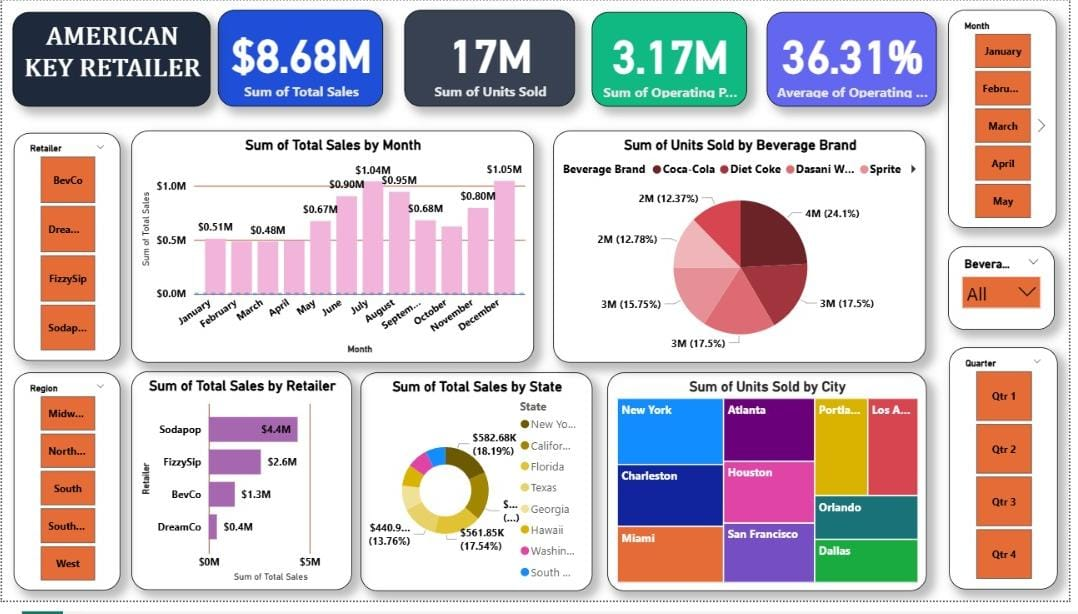

Layout of this report page (visuals, bound fields, positions):
{"tool":"powerbi","page":{"name":"Page 1","canvas":[1280,720],"ordinal":0},"visuals":[{"type":"slicer","fields":{"Values":["Sheet1.Invoice Date.Variation.Date Hierarchy.Month"]},"box":[1135,11.7,130,261.7],"z":0},{"type":"slicer","fields":{"Values":["Sheet1.Invoice Date.Variation.Date Hierarchy.Quarter"]},"box":[1136.7,416.7,130,290],"z":1000},{"type":"slicer","fields":{"Values":["Sheet1.Region"]},"box":[13.3,446.7,128.3,261.7],"z":2000},{"type":"slicer","fields":{"Values":["Sheet1.Retailer"]},"box":[13.3,158.3,128.3,273.3],"z":3000},{"type":"slicer","fields":{"Values":["Sheet1.Beverage Brand"]},"box":[1135,295,128.3,100],"z":4000},{"type":"card","fields":{"Values":["Sum(Sheet1.Total Sales)"]},"box":[258.8,11.2,198.8,116.2],"z":5000},{"type":"card","fields":{"Values":["Sum(Sheet1.Units Sold)"]},"box":[482.5,11.2,205,116.2],"z":6000},{"type":"card","fields":{"Values":["Sum(Sheet1.Operating Profit)"]},"box":[707.5,13.8,186.2,113.8],"z":7000},{"type":"card","fields":{"Values":["Avg(Sheet1.Operating Margin)"]},"box":[917.5,13.8,203.8,113.8],"z":8000},{"type":"columnChart","fields":{"Category":["Sheet1.Invoice Date.Variation.Date Hierarchy.Month"],"Y":["Sum(Sheet1.Total Sales)"]},"box":[155.1,156.4,483,278.6],"z":9000},{"type":"pieChart","fields":{"Y":["Sum(Sheet1.Units Sold)"],"Category":["Sheet1.Beverage Brand"]},"box":[661.4,156.4,447.3,278.6],"z":10000},{"type":"barChart","fields":{"Y":["Sum(Sheet1.Total Sales)"],"Category":["Sheet1.Retailer"]},"box":[155.1,444.6,264.8,262.1],"z":11000},{"type":"treemap","fields":{"Group":["Sheet1.City"],"Values":["Sum(Sheet1.Units Sold)"]},"box":[725.9,446,382.8,262.1],"z":12000},{"type":"donutChart","fields":{"Y":["Sum(Sheet1.Total Sales)"],"Category":["Sheet1.State"]},"box":[429.5,446,278.6,262.1],"z":13000},{"type":"textbox","box":[12.5,13.8,237.5,113.8],"z":14000}]}

Visuals, with their boxes in screenshot pixels (x1, y1, x2, y2), scaled from the page's 1280x720 canvas onto the 1078x614 screenshot:
slicer - Sheet1.Invoice Date.Variation.Date Hierarchy.Month: [956,10,1065,233]
slicer - Sheet1.Invoice Date.Variation.Date Hierarchy.Quarter: [957,355,1067,603]
slicer - Sheet1.Region: [11,381,119,604]
slicer - Sheet1.Retailer: [11,135,119,368]
slicer - Sheet1.Beverage Brand: [956,252,1064,337]
card - Sum(Sheet1.Total Sales): [218,10,385,109]
card - Sum(Sheet1.Units Sold): [406,10,579,109]
card - Sum(Sheet1.Operating Profit): [596,12,753,109]
card - Avg(Sheet1.Operating Margin): [773,12,944,109]
columnChart - Sheet1.Invoice Date.Variation.Date Hierarchy.Month x Sum(Sheet1.Total Sales): [131,133,537,371]
pieChart - Sum(Sheet1.Units Sold) x Sheet1.Beverage Brand: [557,133,934,371]
barChart - Sum(Sheet1.Total Sales) x Sheet1.Retailer: [131,379,354,603]
treemap - Sheet1.City x Sum(Sheet1.Units Sold): [611,380,934,604]
donutChart - Sum(Sheet1.Total Sales) x Sheet1.State: [362,380,596,604]
textbox: [11,12,211,109]
